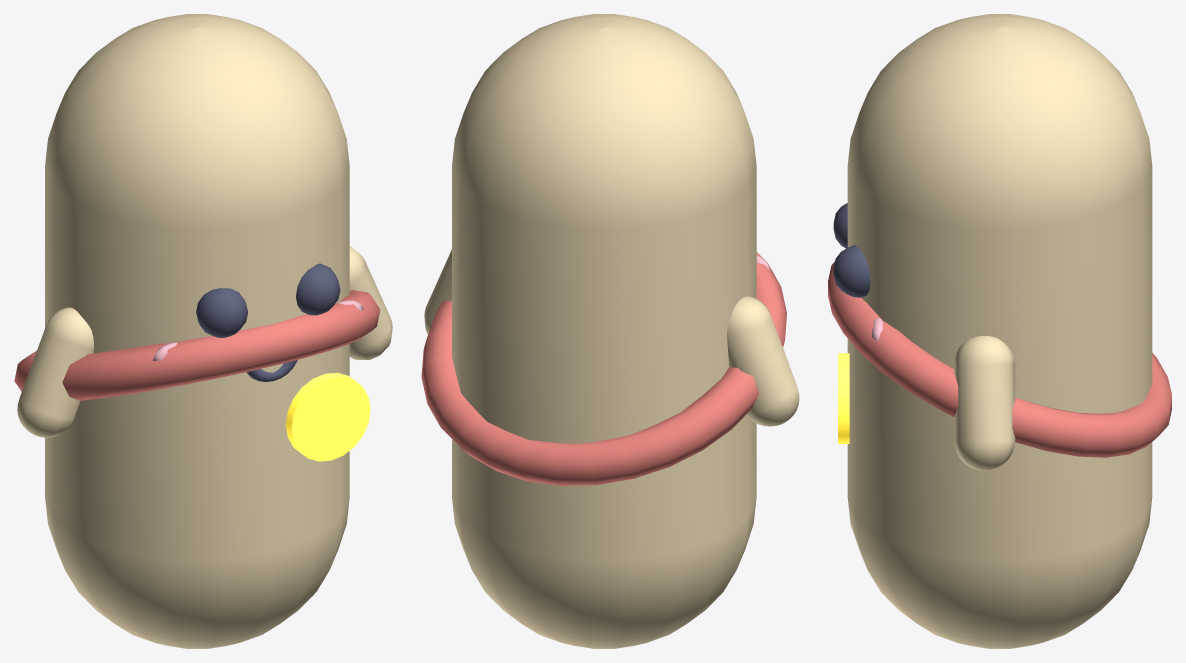
The model's file is wakil.glb.
The picture shows the model from 3 angles, left to right: view 1: azimuth 30°, elevation 25°; view 2: azimuth 150°, elevation 25°; view 3: azimuth 270°, elevation 25°; orthographic projection.
Visible parts, largest first — view 1: wakil; view 2: wakil; view 3: wakil.
Part boxes in pixels (x1,y1,x2,y2): wakil: [14, 14, 392, 648]; wakil: [421, 14, 799, 648]; wakil: [828, 14, 1171, 648].
Size of the model in its own units: 0.5556 by 0.88 by 0.4516.
